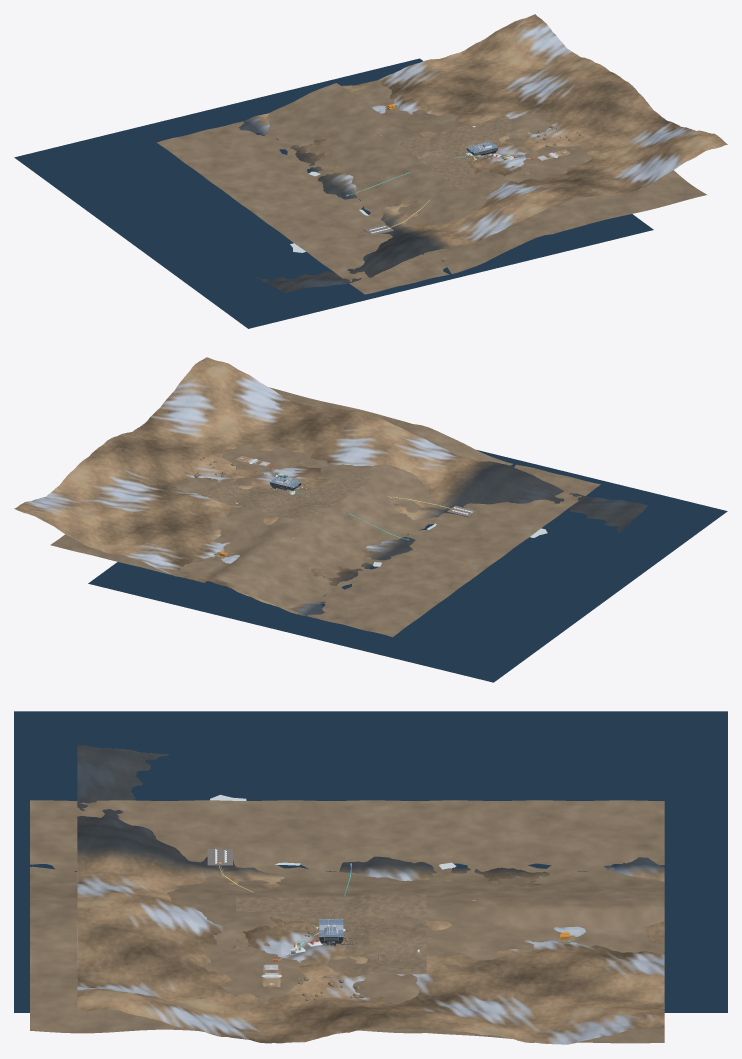
File: bharati_digital_twin_compressed.glb
3 renders of one model, top to bottom at view 1: azimuth 30°, elevation 25°; view 2: azimuth 150°, elevation 25°; view 3: azimuth 270°, elevation 25°, orthographic. The views are drawn at different scales.
Visible parts, largest first — view 1: Site_Extended_Terrain, Bharati_Master_Topography, Quilty_Bay_Water, Antarctic_Rocky_Ground; view 2: Bharati_Master_Topography, Site_Extended_Terrain, Quilty_Bay_Water, Antarctic_Rocky_Ground; view 3: Site_Extended_Terrain, Quilty_Bay_Water, Bharati_Master_Topography, Antarctic_Rocky_Ground.
Part boxes in pixels (x1=…): Site_Extended_Terrain: x1=157, y1=80, x2=706, y2=294; Bharati_Master_Topography: x1=239, y1=14, x2=727, y2=292; Quilty_Bay_Water: x1=14, y1=58, x2=653, y2=328; Antarctic_Rocky_Ground: x1=397, y1=115, x2=545, y2=189; Bharati_Master_Topography: x1=14, y1=357, x2=647, y2=618; Site_Extended_Terrain: x1=50, y1=387, x2=600, y2=637; Quilty_Bay_Water: x1=88, y1=450, x2=727, y2=682; Antarctic_Rocky_Ground: x1=201, y1=460, x2=370, y2=522; Site_Extended_Terrain: x1=30, y1=800, x2=664, y2=1043; Quilty_Bay_Water: x1=14, y1=711, x2=727, y2=1012; Bharati_Master_Topography: x1=77, y1=745, x2=664, y2=1044; Antarctic_Rocky_Ground: x1=236, y1=894, x2=426, y2=977.
Size of the model in its own units: 1110 by 123 by 900.
Materials: 104 (6 with a texture image).
